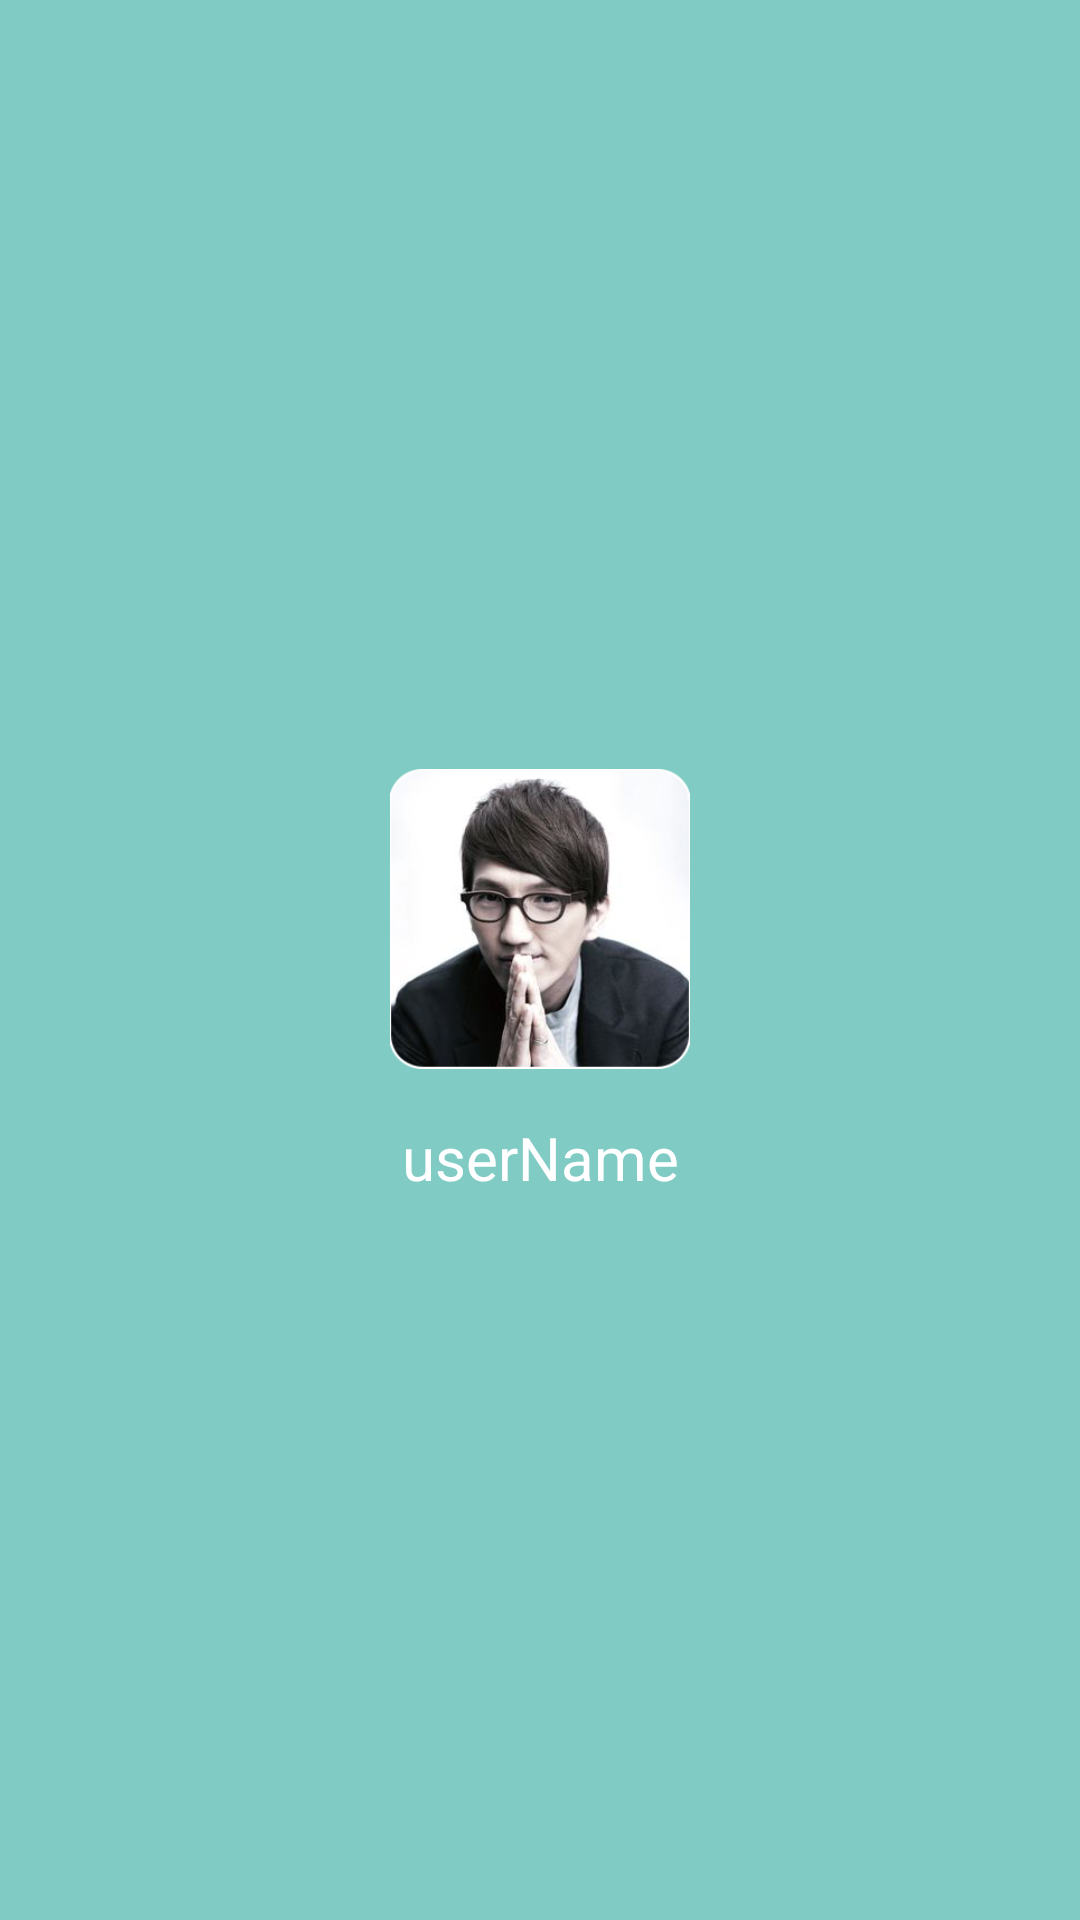

Where to tap for icons on this 1080px x 1920px app screen, as (x,y):
demo artist: (540,919)
